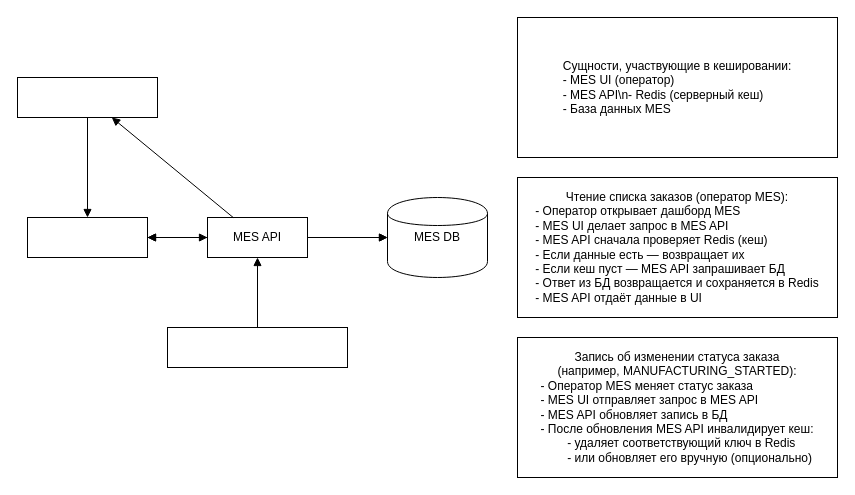
Image size: 855x495. Some labels were removed from this diagram. The centre of each missing label's shape, as x and y in pixels:
MES UI (Изменение статуса): the point at 257,347
MES UI (Оператор): the point at 87,97
Кеш (Redis): the point at 87,237
